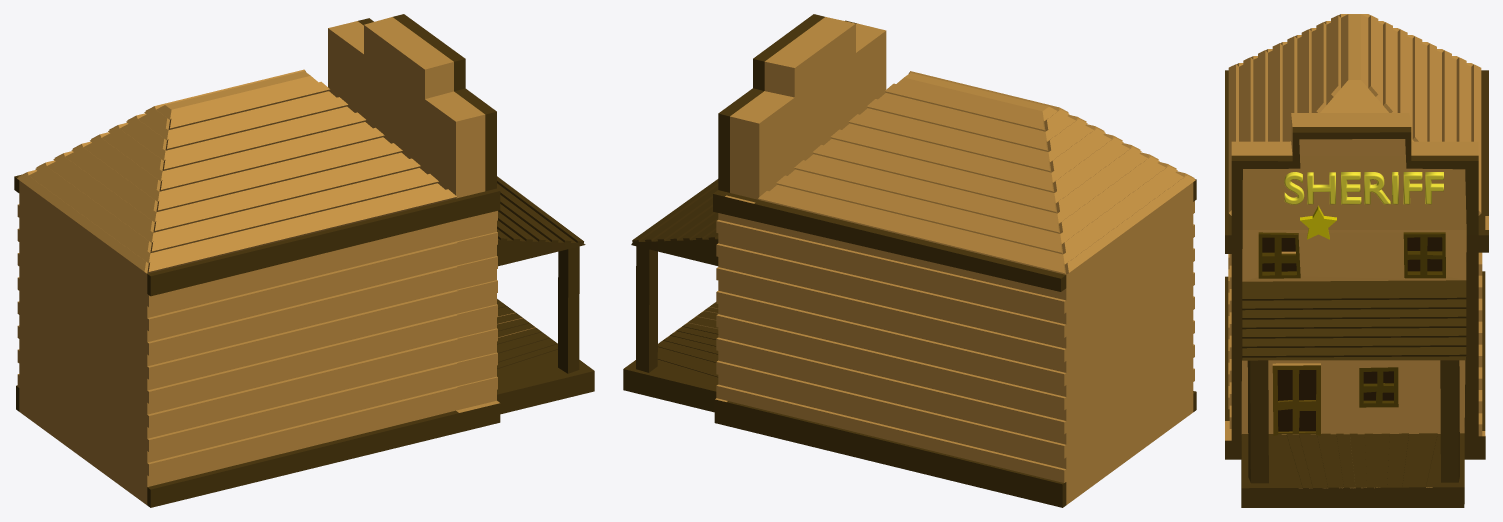
Rendered from sherif.fbx.
3 views of the same model, side by side, from view 1: azimuth 30°, elevation 25°; view 2: azimuth 150°, elevation 25°; view 3: azimuth 270°, elevation 25° (orthographic). The views are drawn at different scales.
Visible parts, largest first — view 1: Cube.001; view 2: Cube.001; view 3: Cube.001.
Part boxes in pixels (bbox=[...]): Cube.001: bbox=[14, 14, 594, 507]; Cube.001: bbox=[623, 14, 1196, 507]; Cube.001: bbox=[1225, 14, 1488, 507].
Size of the model in its own units: 411 by 292 by 213.
